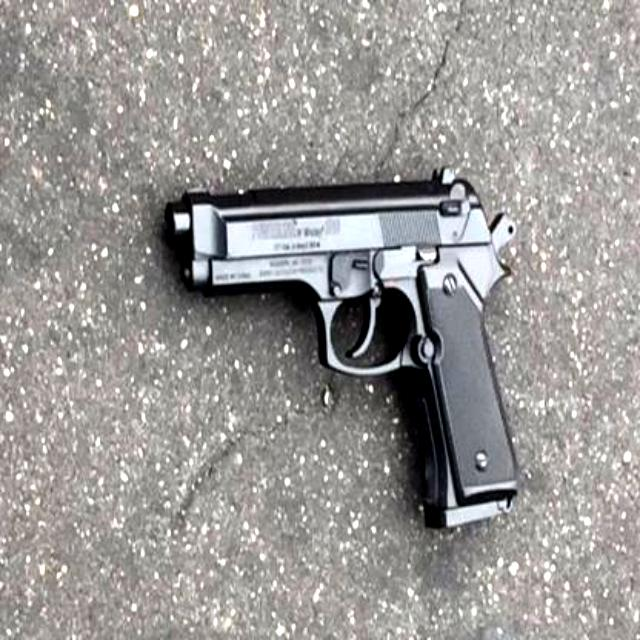pistol: (153, 154, 547, 554)
